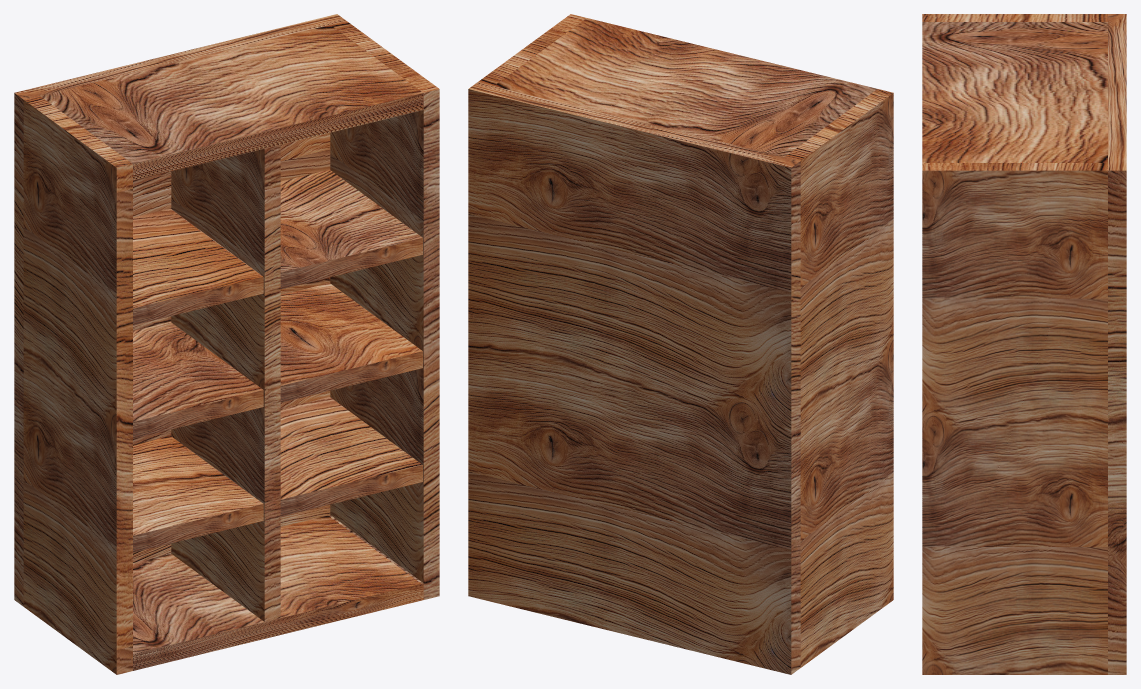
File: EstanteArtesanias.obj
3 views of the same model, side by side, from view 1: azimuth 30°, elevation 25°; view 2: azimuth 150°, elevation 25°; view 3: azimuth 270°, elevation 25° (orthographic).
Parts seen in each view (by area): view 1: estante3; view 2: estante3; view 3: estante3.
Part boxes in pixels (left/top/right/bottom): estante3: left=14, top=14, right=439, bottom=674; estante3: left=468, top=14, right=893, bottom=674; estante3: left=922, top=14, right=1126, bottom=674.
Bounding box in the file's own units: 1.2 × 1.8 × 0.66.
1 material, 1 textured.
